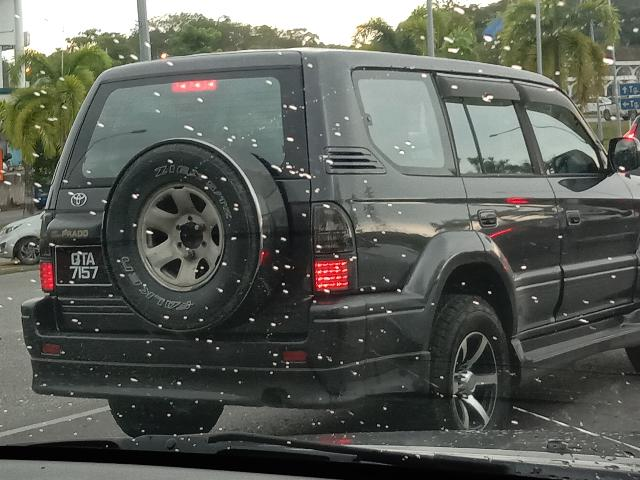License_Plate: (56, 247, 110, 287)
car: (14, 41, 640, 447)
